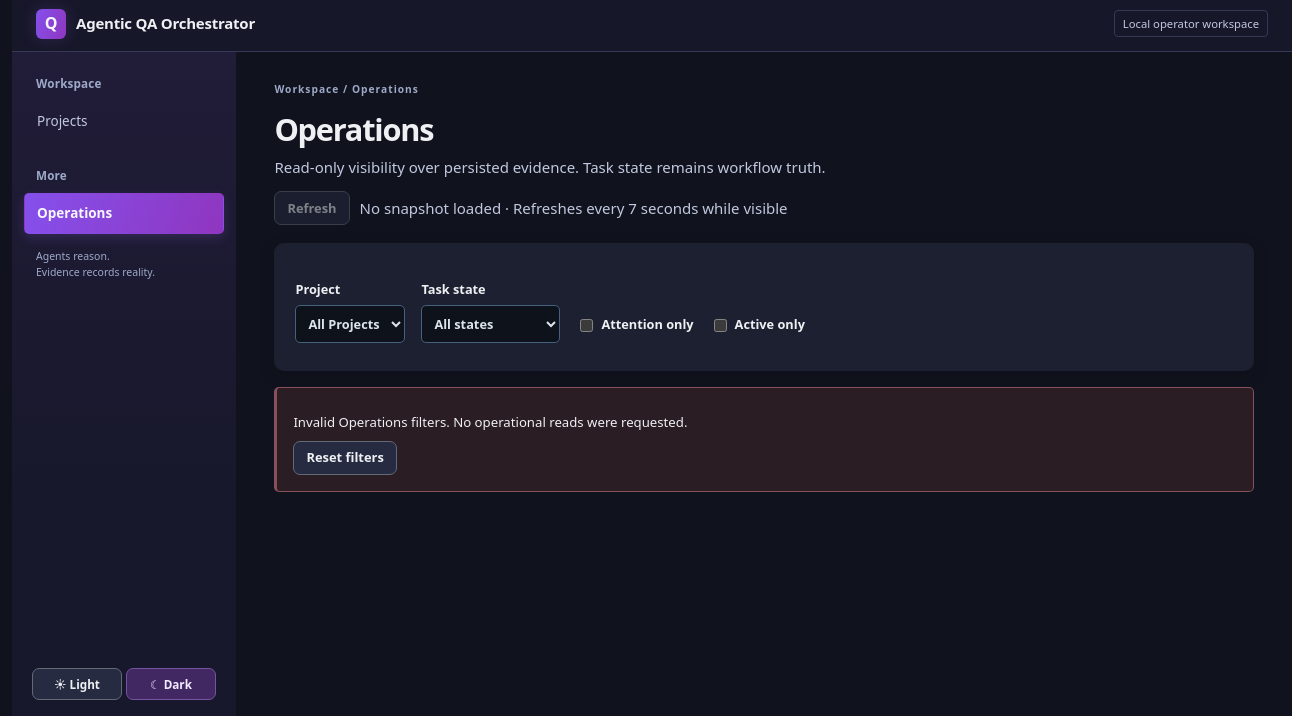
Operations dashboard › rejects invalid filter task_state=UNKNOWN without reads
Expected: the message shows "Invalid Operations filters", [293,413,688,431]
Click the button "Reset filters" at [345, 458], box [293,441,397,475]
(page scrolled)
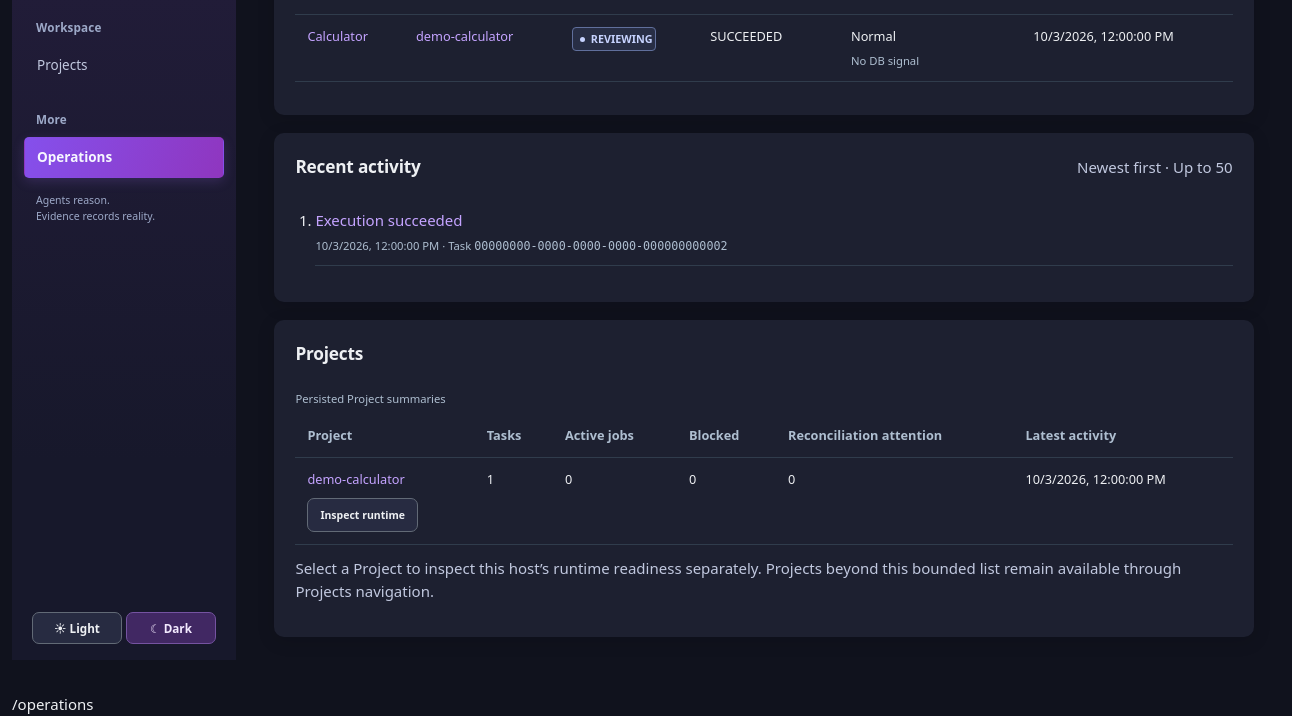
Expected: the link "Calculator" is shown, [307,27,368,45]
Expected: the text with test id "location" reads "/operations", [12,694,94,714]
